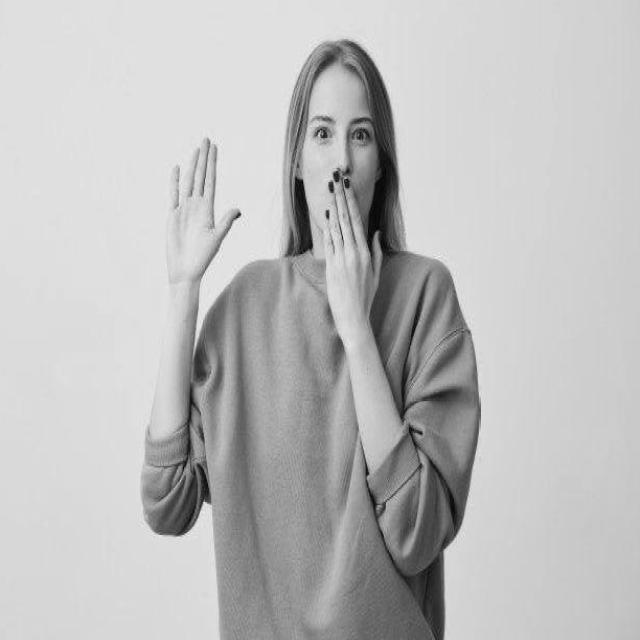stop: (162, 129, 244, 294)
